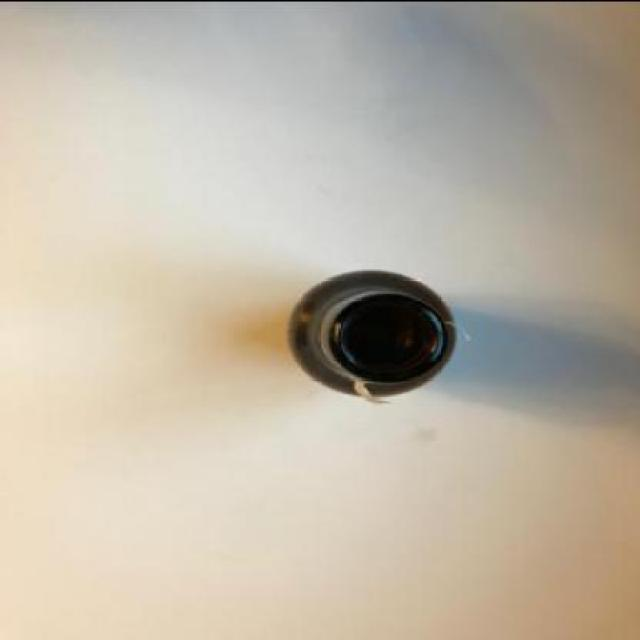glass: (286, 271, 456, 400)
